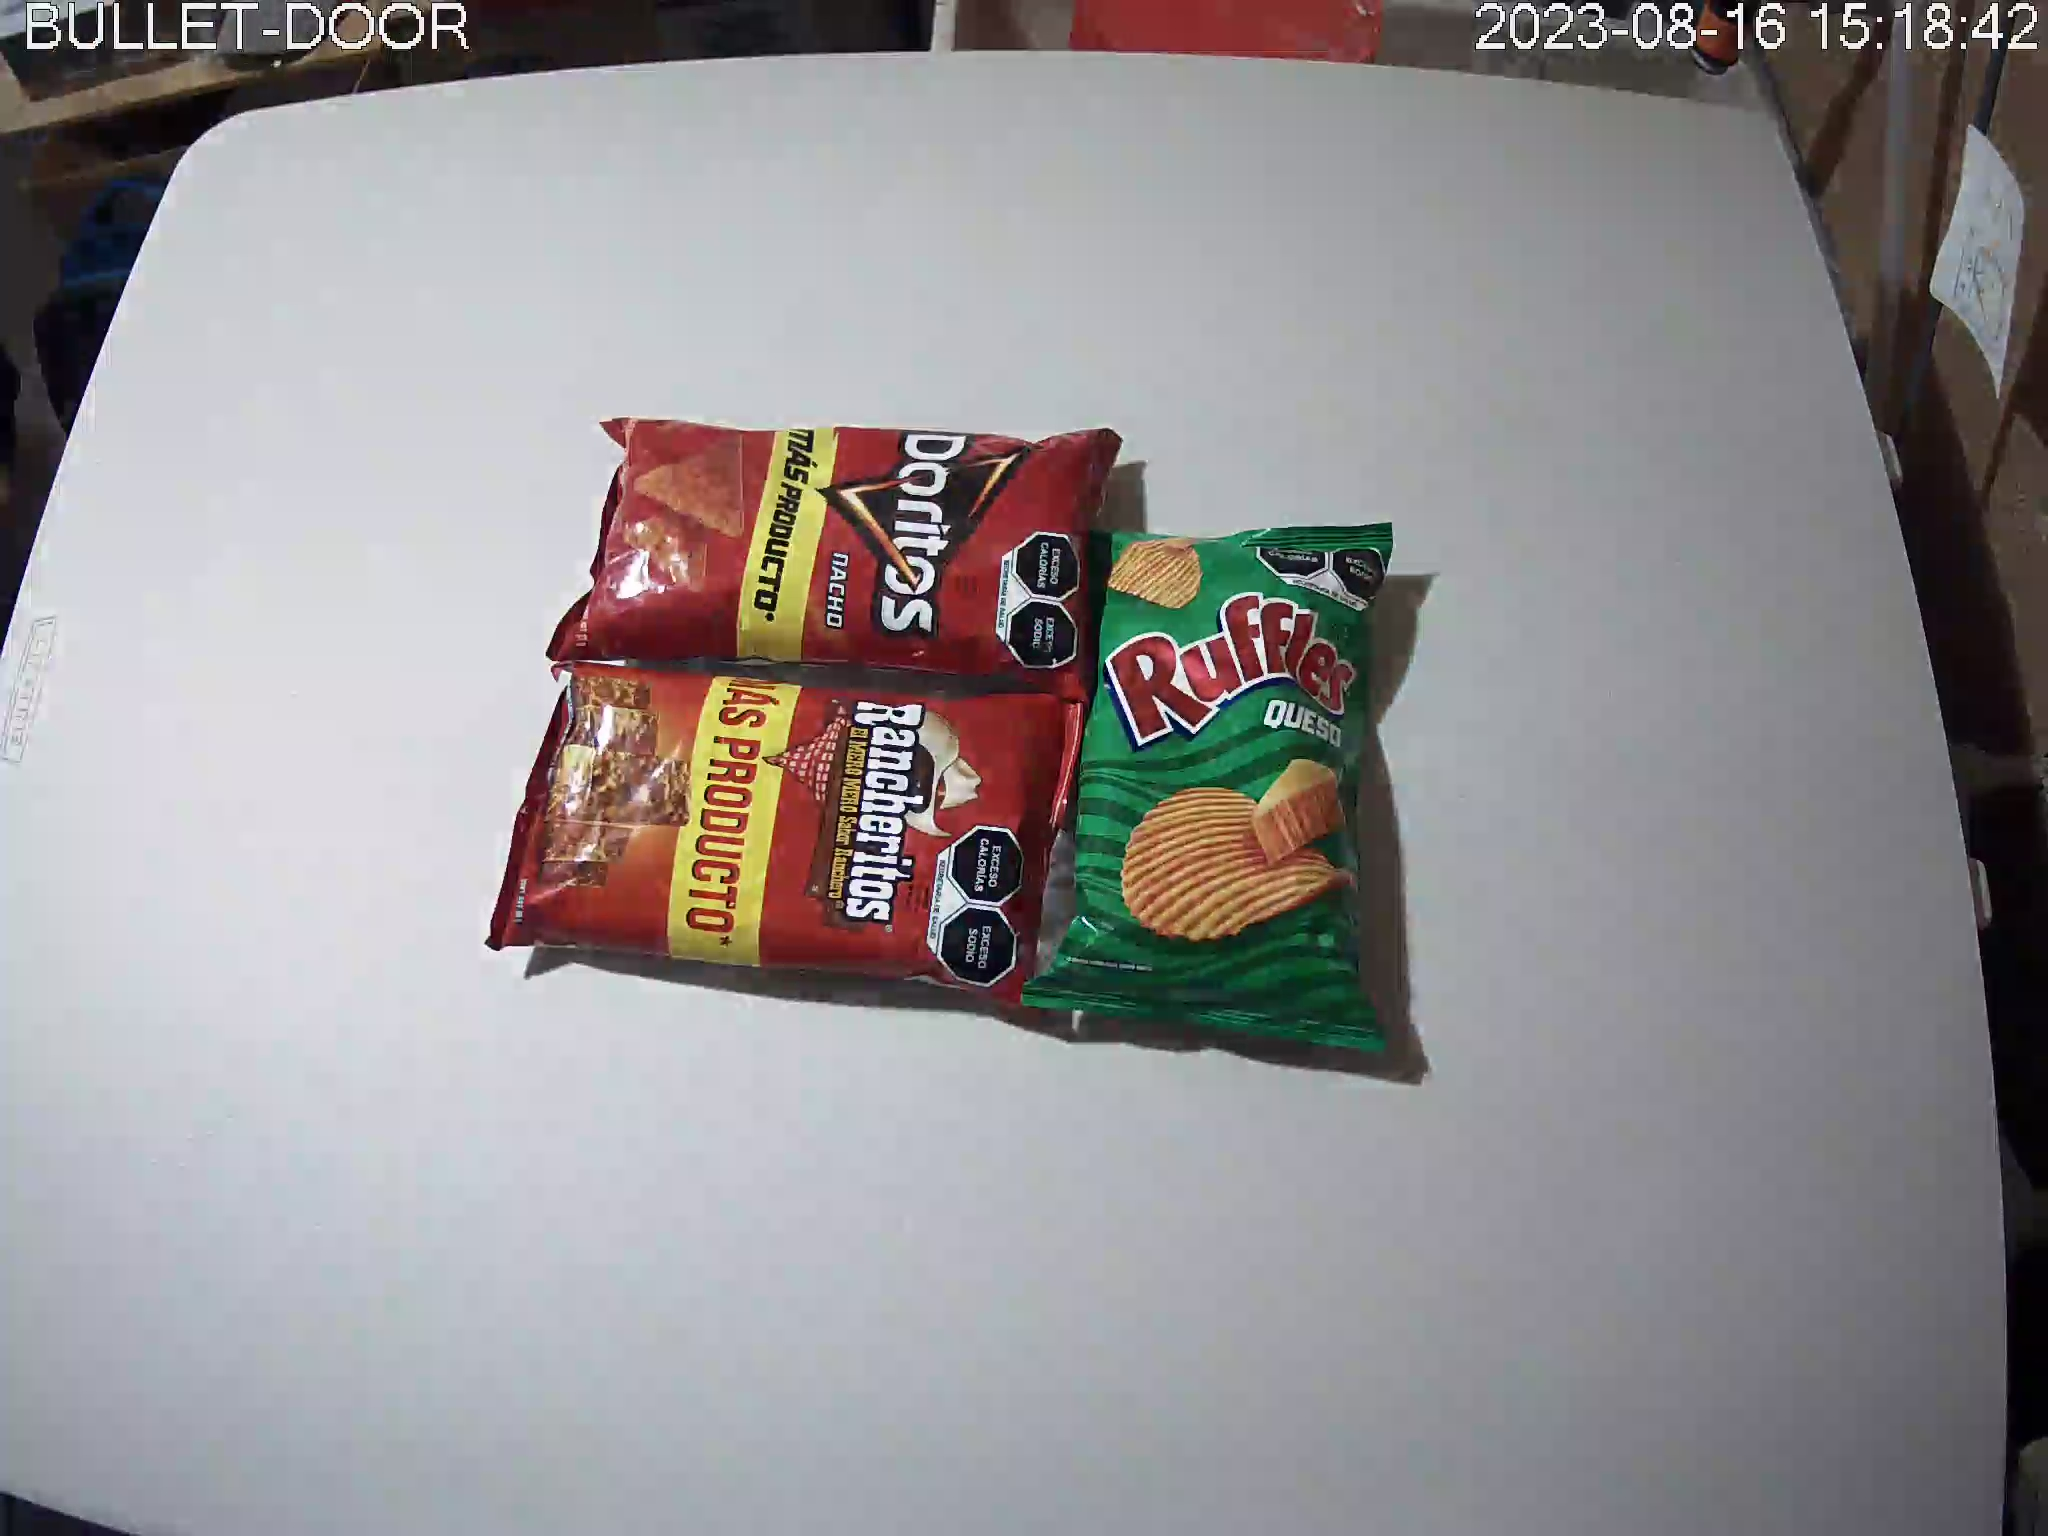DoritosN_61_F: (545, 416, 1126, 707)
Rancheritos_58_F: (484, 662, 1085, 1029)
RufflesQ_48_F: (1021, 520, 1400, 1057)
